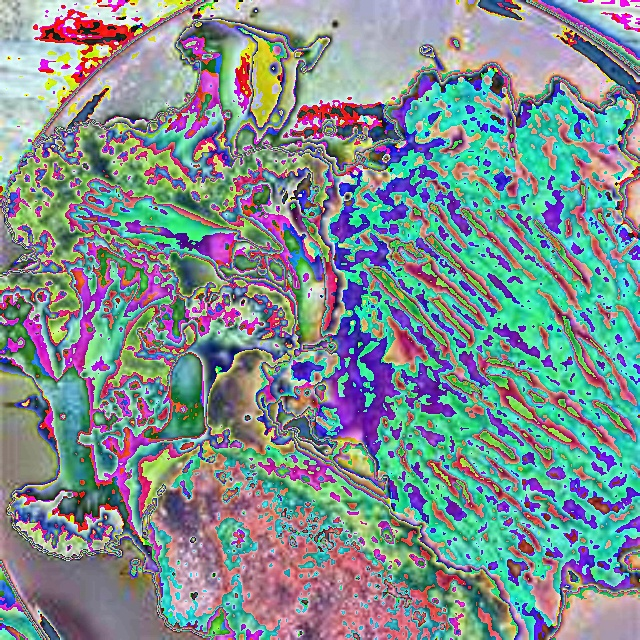background: (0, 15, 640, 639)
